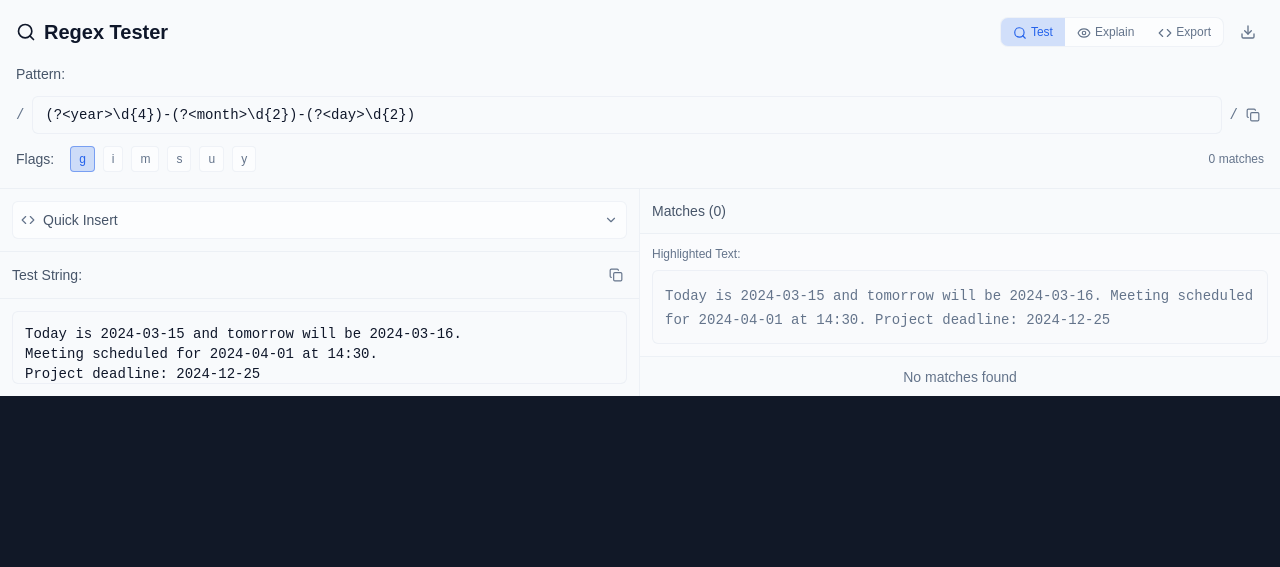
Test: RegexTablet › view modes › should switch to export view
Step 1. Click the button "Export" → (1185, 32), box left=1146, top=18, right=1223, bottom=46
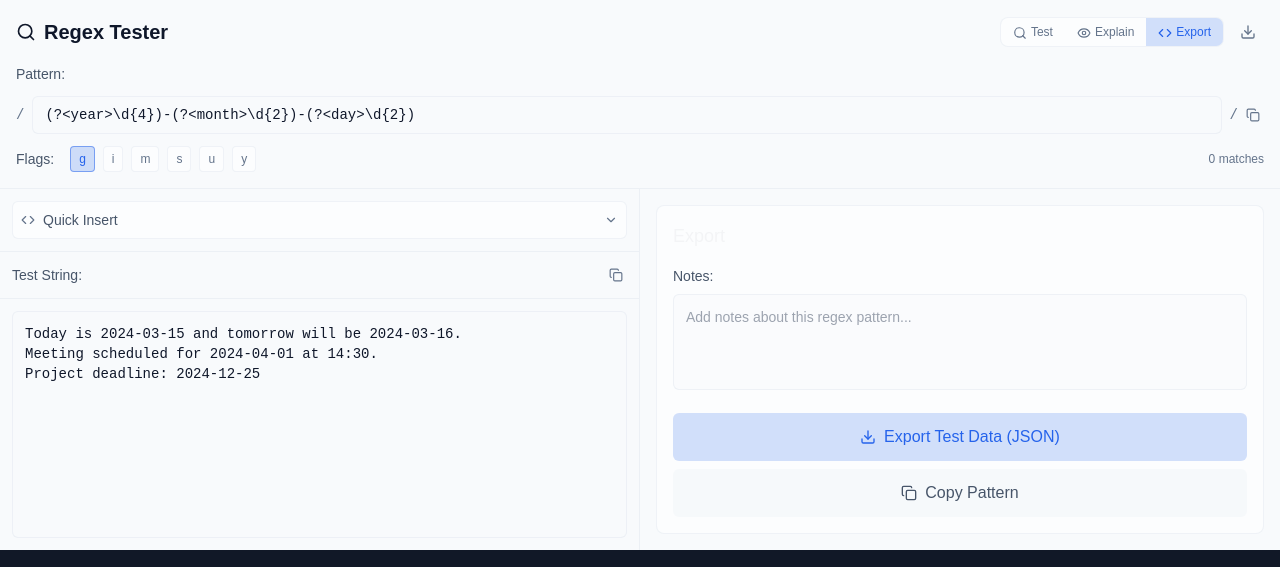
Now the button "Export Test Data (JSON)" is shown, box left=673, top=413, right=1247, bottom=461
